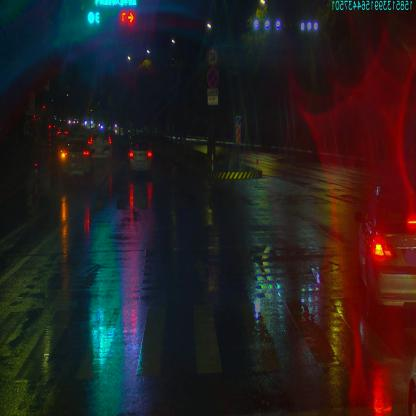traffic-light: (91, 0, 139, 8), (120, 10, 137, 26), (87, 9, 102, 25)
